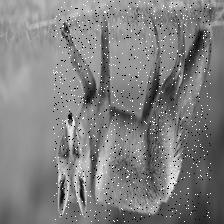fox: (53, 0, 211, 222)
